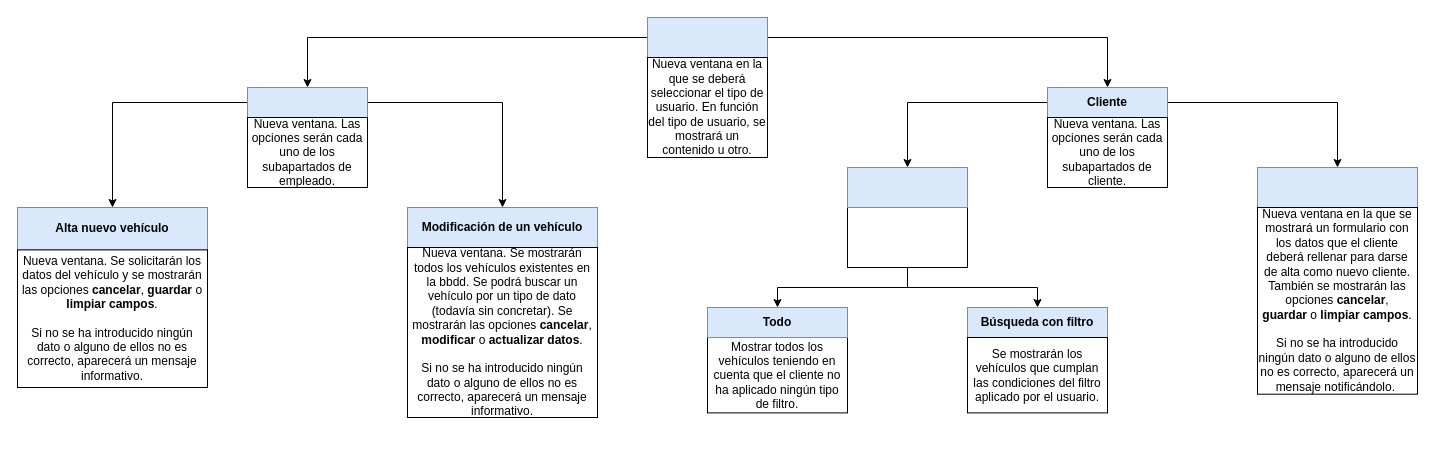
The diagram is 1435 pixels wide and 465 high, and some of its shapes have lost their labels. The shapes that lost their labels are listed below. From the top down, each one's centre as x and y in pixels, then its label:
[707,37]: Identificación de usuario
[307,102]: Empleado
[907,187]: Consulta de catálogo
[1337,187]: Alta como nuevo cliente
[907,237]: Nueva ventana en la que el cliente puede consultar los vehículos disponibles.
